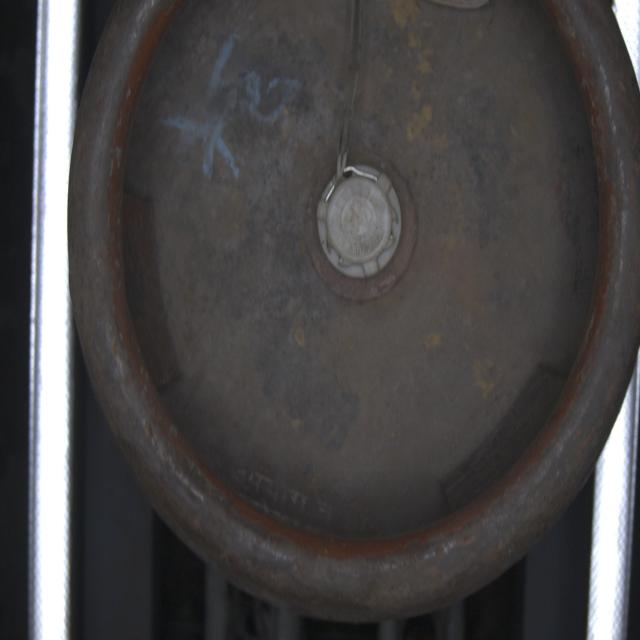Cap: (317, 162, 405, 280)
